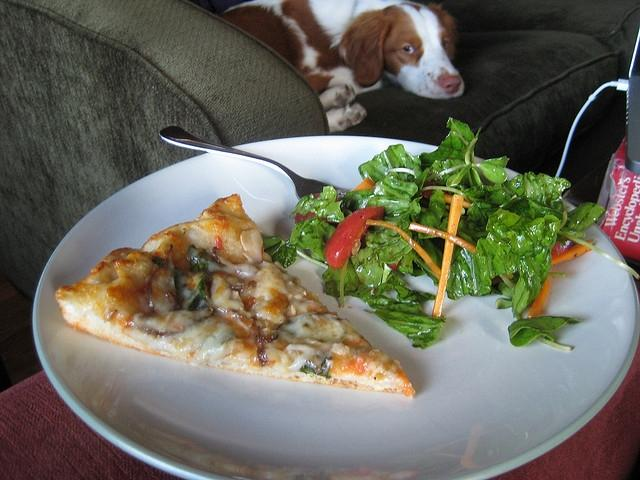carrot: (366, 219, 442, 282), (432, 194, 464, 317), (408, 222, 477, 254), (550, 239, 594, 265), (526, 274, 550, 318), (444, 194, 473, 208), (352, 176, 375, 190)
tomato: (323, 206, 385, 269), (295, 192, 339, 224), (550, 236, 574, 256), (422, 182, 448, 200), (387, 259, 401, 270)
